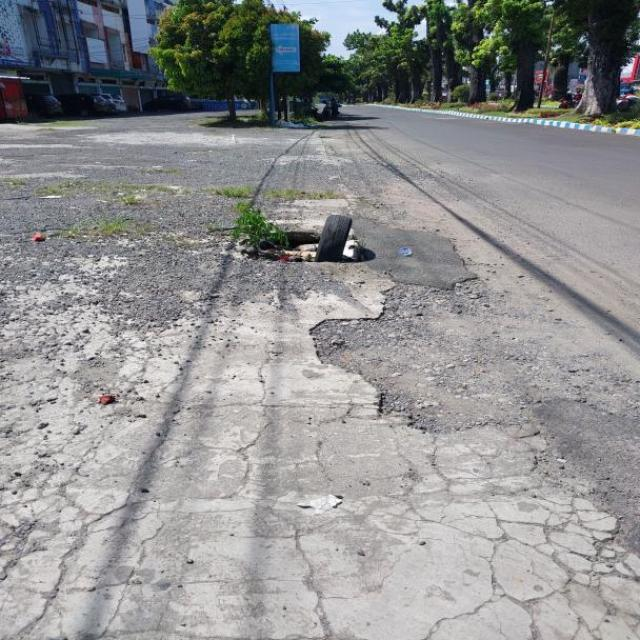pathole ahead at: (238, 206, 361, 266)
